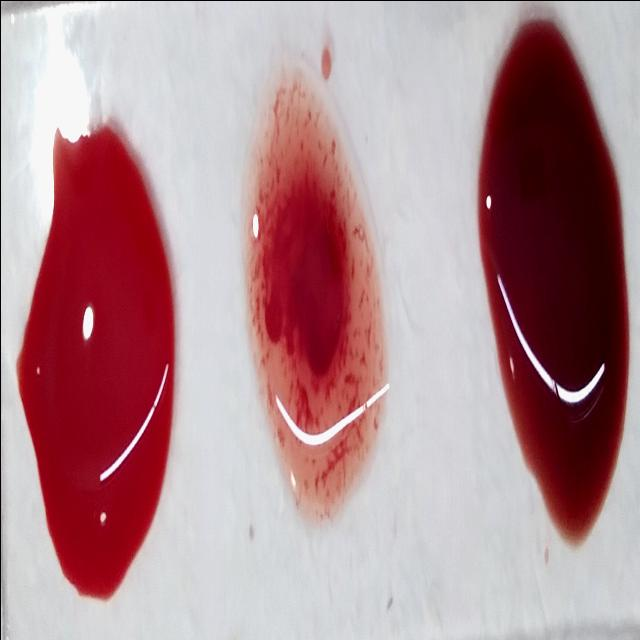D: (252, 46, 388, 522)
